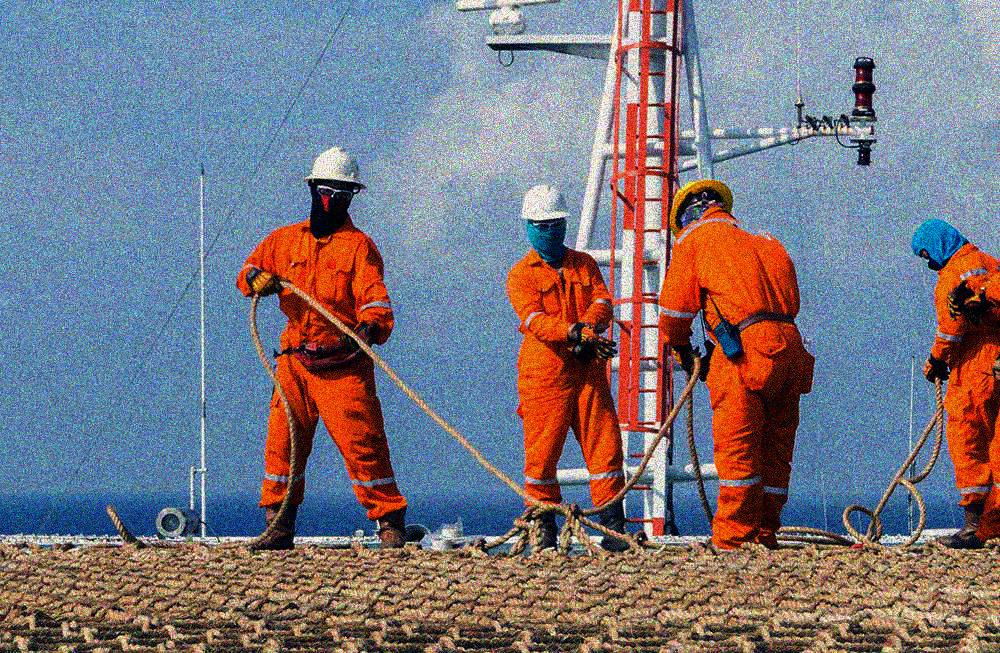helmet: (302, 145, 370, 236), (516, 182, 574, 260), (664, 175, 736, 223)
